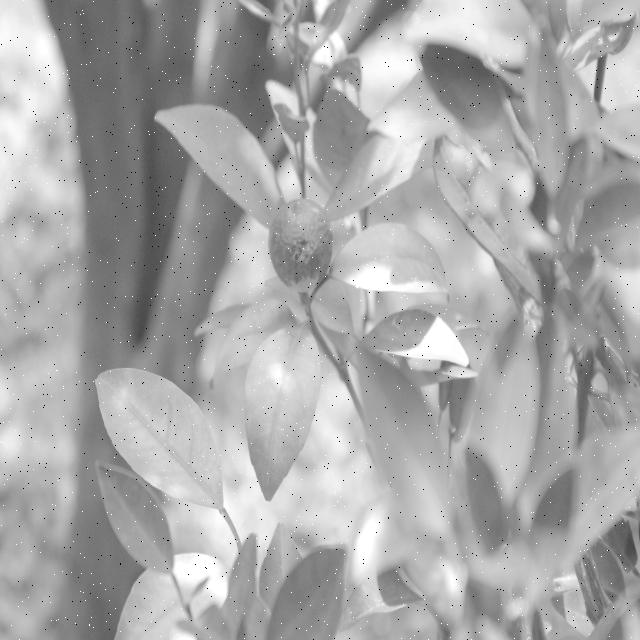greening: (90, 360, 232, 507), (248, 321, 320, 497), (342, 224, 440, 298)
